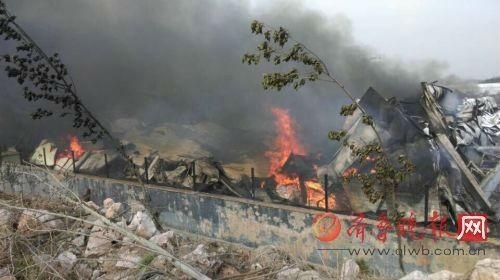fire: (265, 108, 336, 211), (64, 136, 85, 157)
